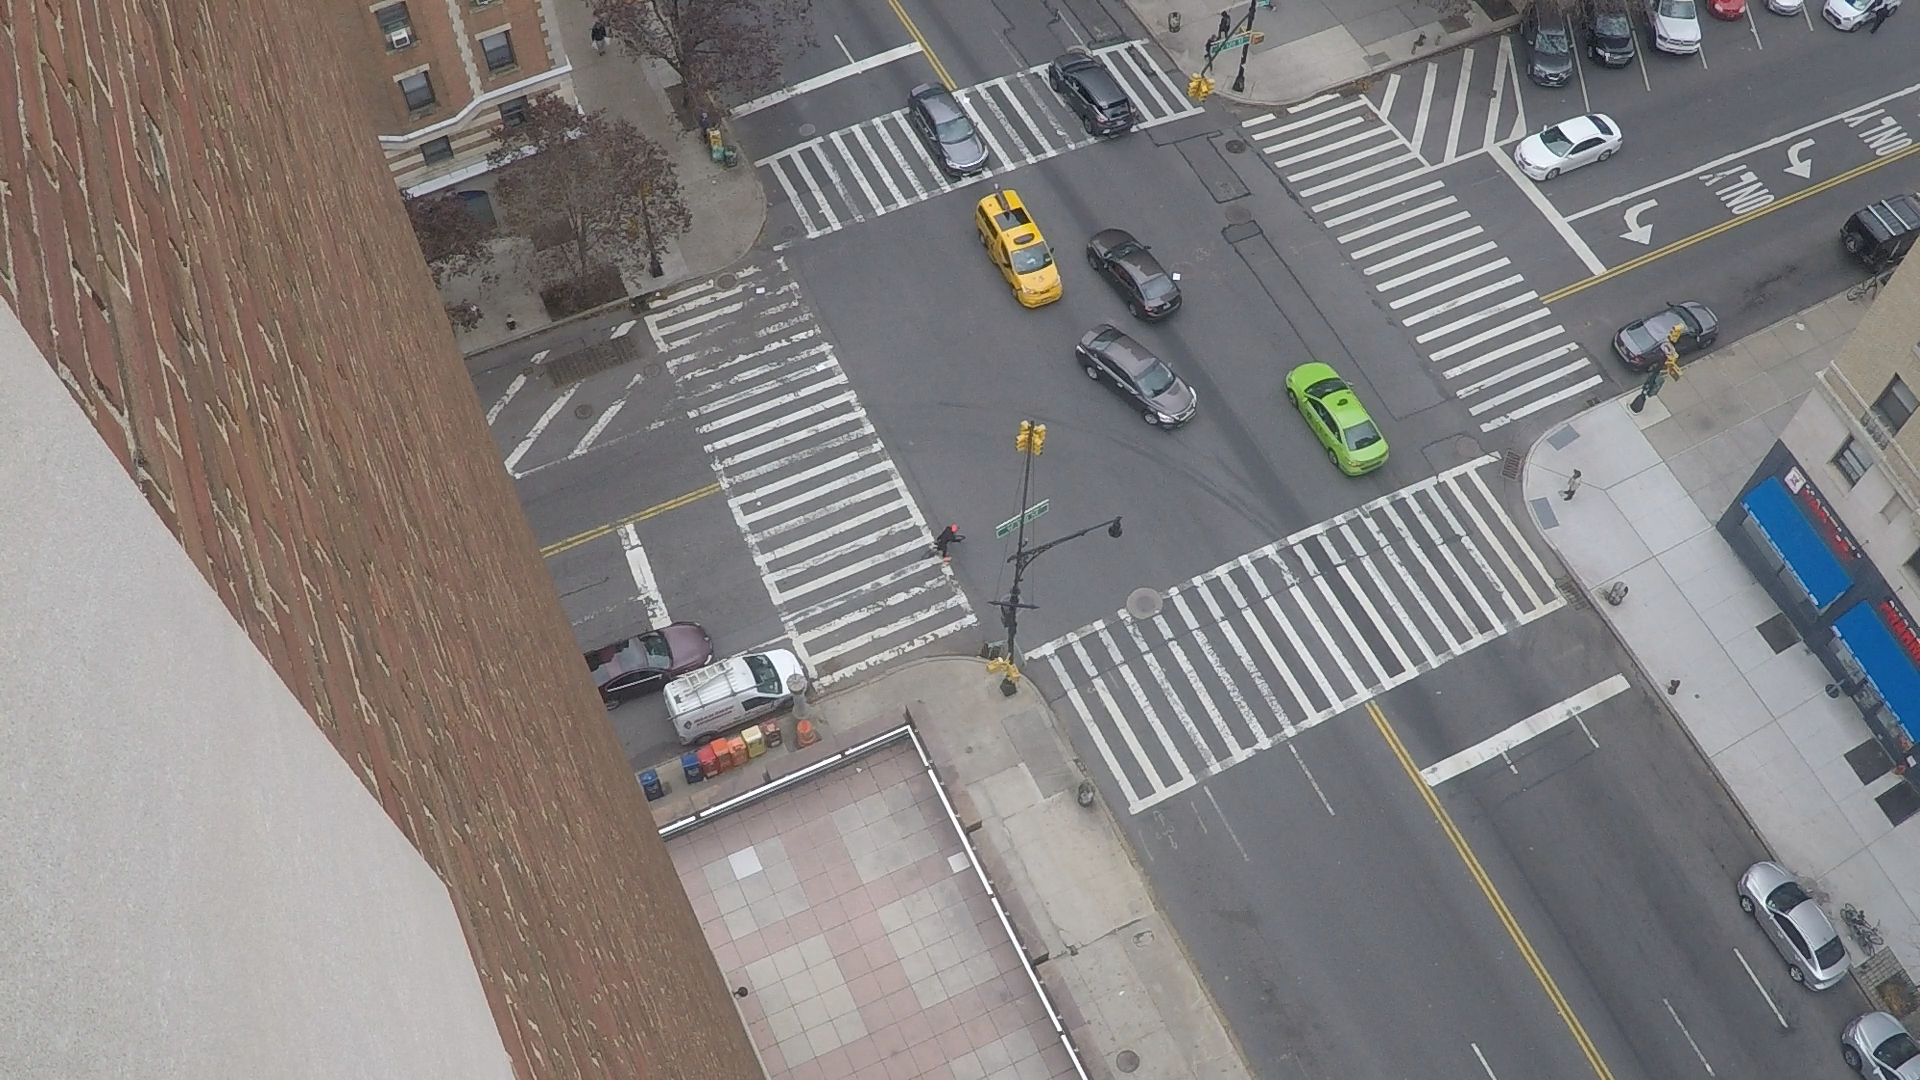Car: (1642, 1, 1652, 38), (1121, 399, 1137, 413), (1916, 191, 1919, 209), (1131, 314, 1139, 319), (1285, 378, 1287, 388), (1526, 48, 1527, 64), (1085, 119, 1086, 129), (988, 246, 990, 251)
Pedestrian: (592, 15, 596, 19), (948, 557, 951, 558)
